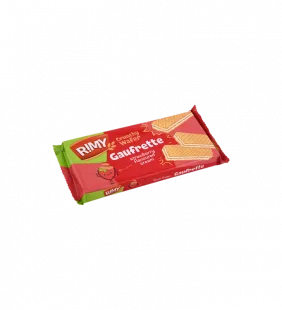RIMY: (44, 100, 236, 212)
